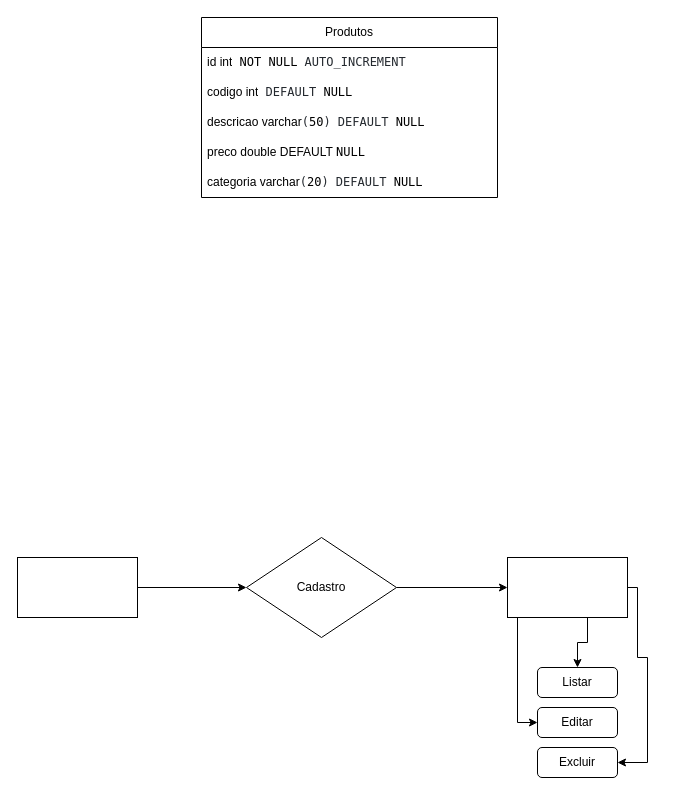
This 673x795 diagram has some shape labels left out. Here are the shapes that lost their labels. From the top down, the box of each, then its label:
(16, 556, 138, 618): Funcionário
(506, 556, 628, 618): Produto
